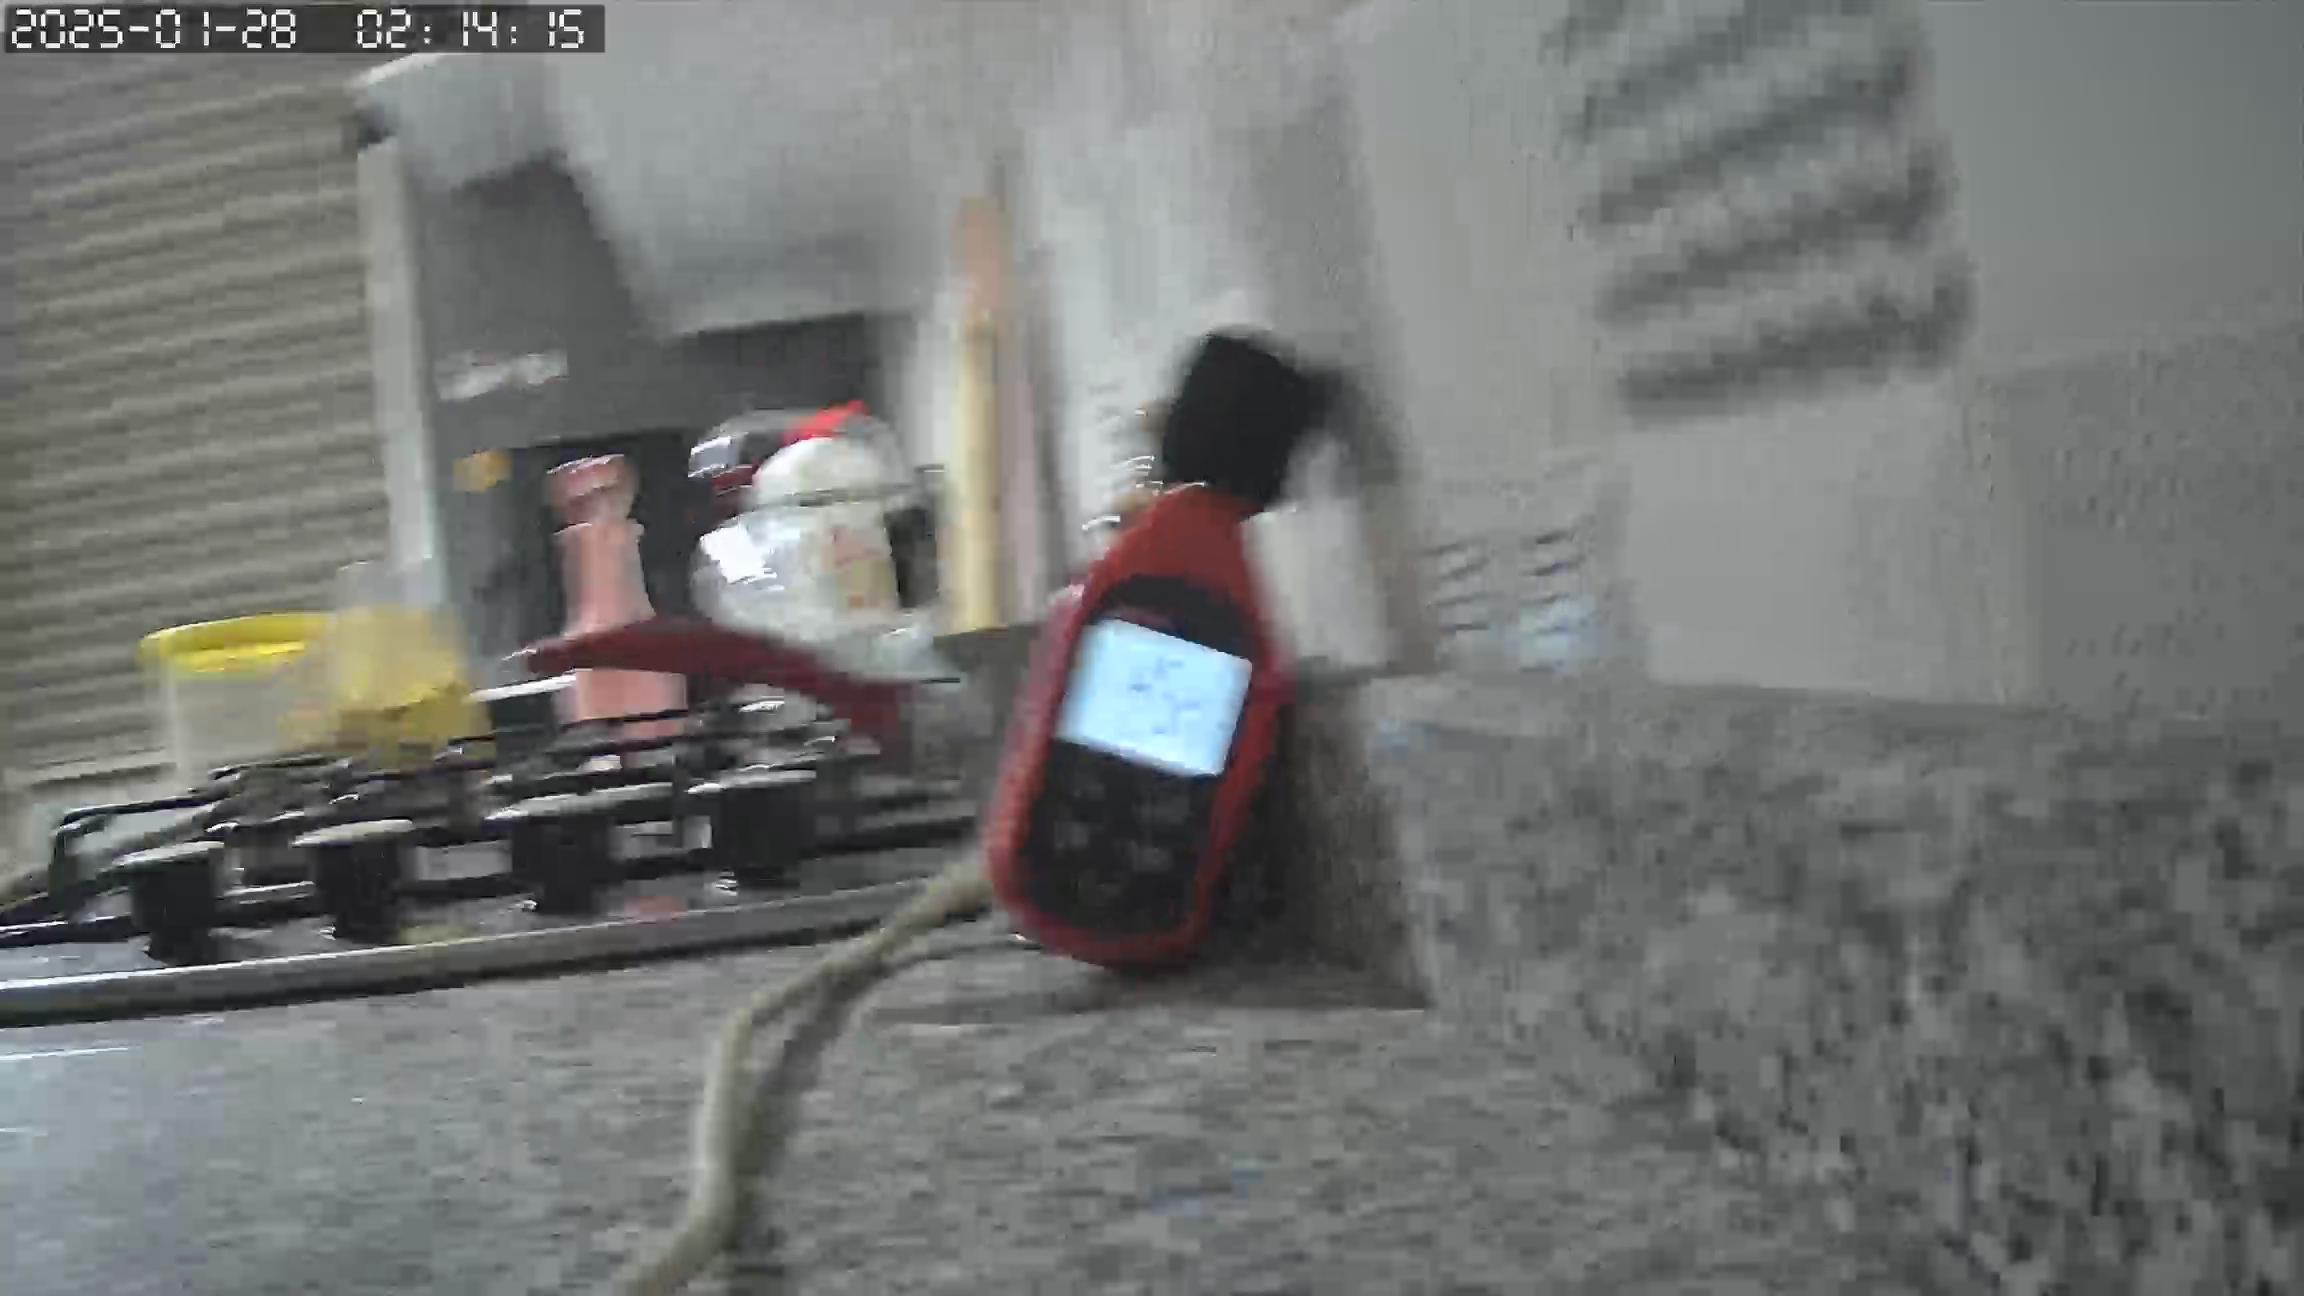screen: (1060, 620, 1253, 779)
